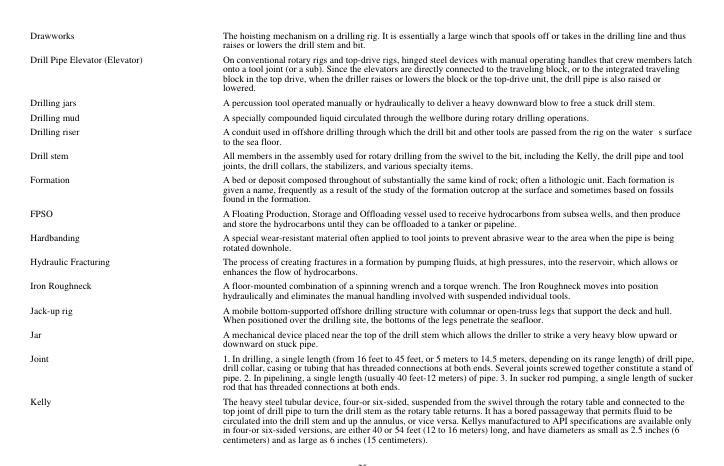table: (29, 28, 692, 434)
table column: (181, 28, 692, 434), (29, 28, 181, 434)
table row: (29, 51, 692, 94), (29, 350, 692, 393), (29, 393, 692, 434), (29, 172, 692, 205), (29, 147, 692, 172), (29, 253, 692, 278), (29, 123, 692, 147), (29, 205, 692, 229), (29, 229, 692, 253), (29, 278, 692, 302), (29, 302, 692, 326), (29, 326, 692, 350), (29, 28, 692, 51), (29, 94, 692, 109), (29, 109, 692, 123)
